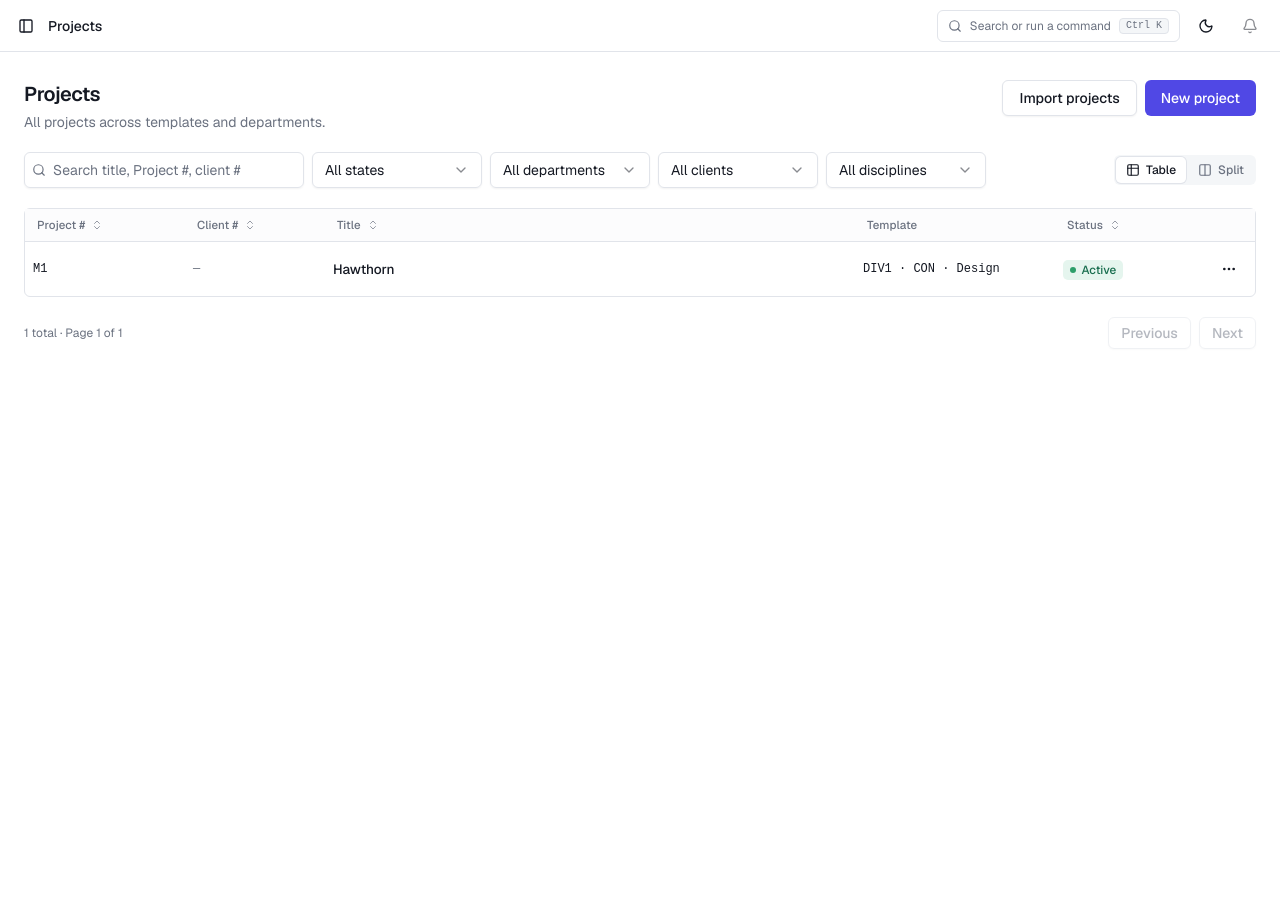
Test: ProjectsListPage › Peek panel renders Metric fields when the template flags any
Expected: the text "Hawthorn" is shown, [325,242,855,296]
Click the row "M1 — Hawthorn DIV1 · CON · Design Active".
click(364, 269)  # box [25,242,1255,296]
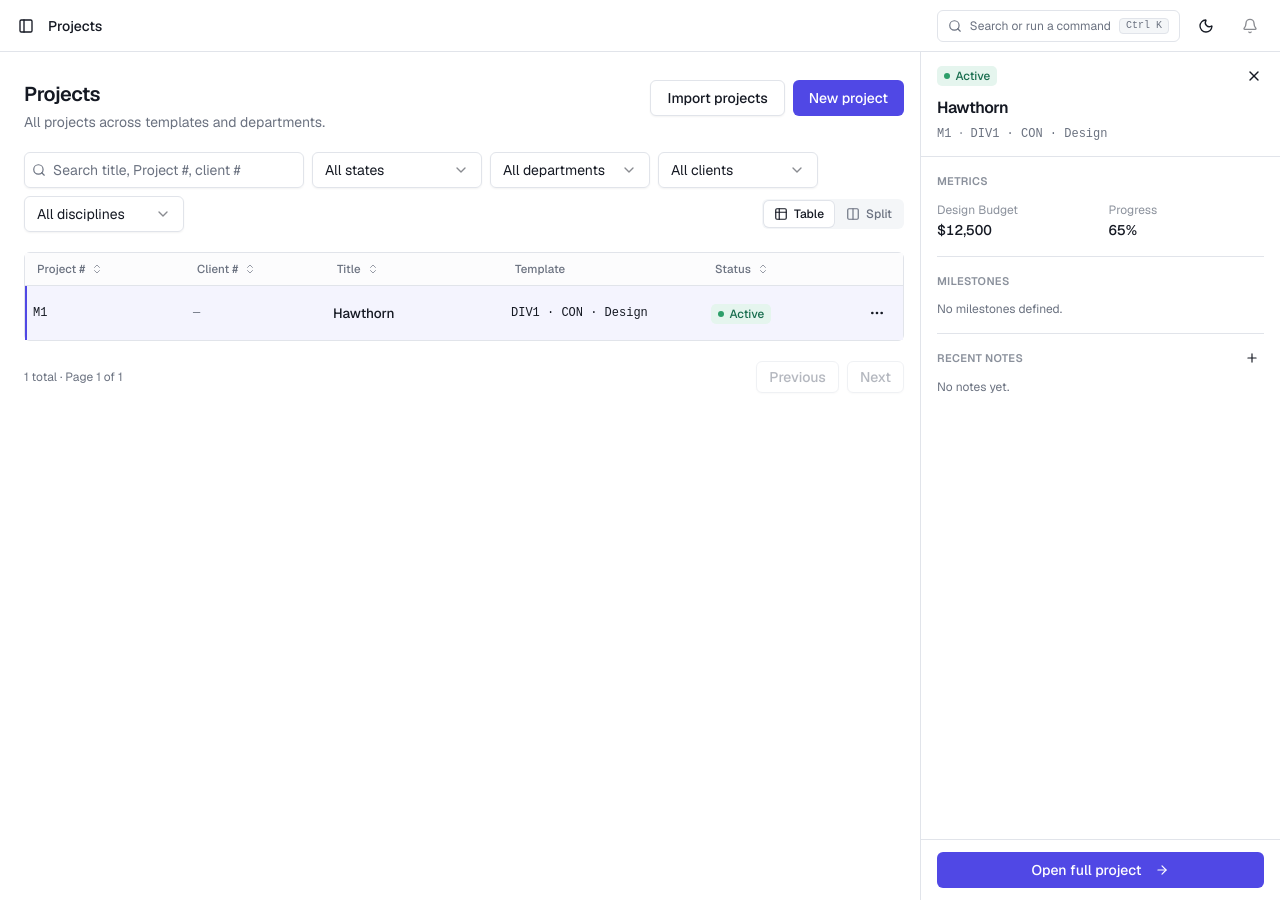
Expected: the text "Design Budget" is shown, [937,202,1018,218]
Expected: the text "$12,500" is shown, [937,220,992,238]
Expected: the text "Progress" is shown, [1108,202,1157,218]
